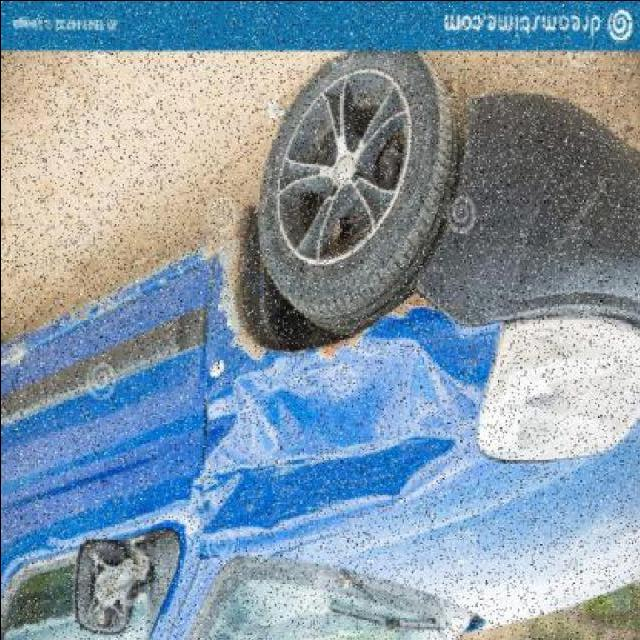RunningBoard-Dent: (93, 245, 201, 305), (0, 297, 97, 361)
Sidemirror-Damage: (56, 520, 161, 640)
fender-dent: (208, 240, 472, 533)
